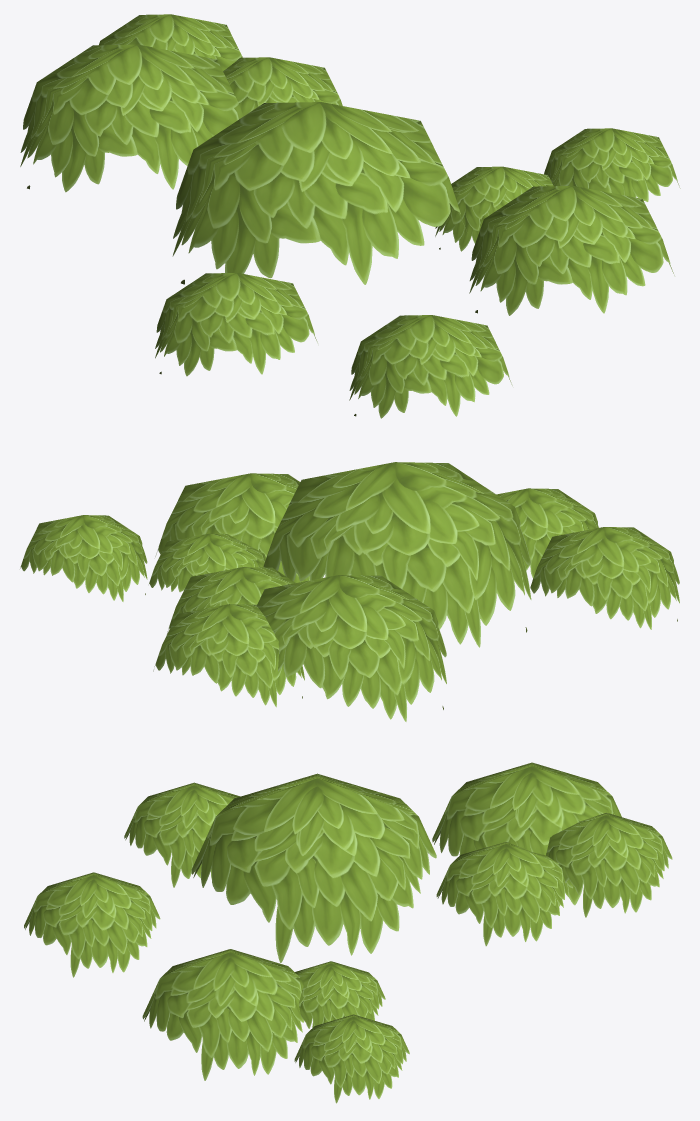
The model's file is Boab Leaves #1.fbx.
The picture shows the model from 3 angles, top to bottom: view 1: azimuth 30°, elevation 25°; view 2: azimuth 150°, elevation 25°; view 3: azimuth 270°, elevation 25°; orthographic projection. The views are drawn at different scales.
Visible parts, largest first — view 1: Boab Leaves #1; view 2: Boab Leaves #1; view 3: Boab Leaves #1.
Boxes of the visible parts, left/top/right/bottom form: Boab Leaves #1: left=20, top=14, right=680, bottom=418; Boab Leaves #1: left=20, top=462, right=679, bottom=721; Boab Leaves #1: left=24, top=762, right=672, bottom=1103.
Bounding box in the file's own units: 305 × 95.68 × 329.
1 material, 1 textured.
